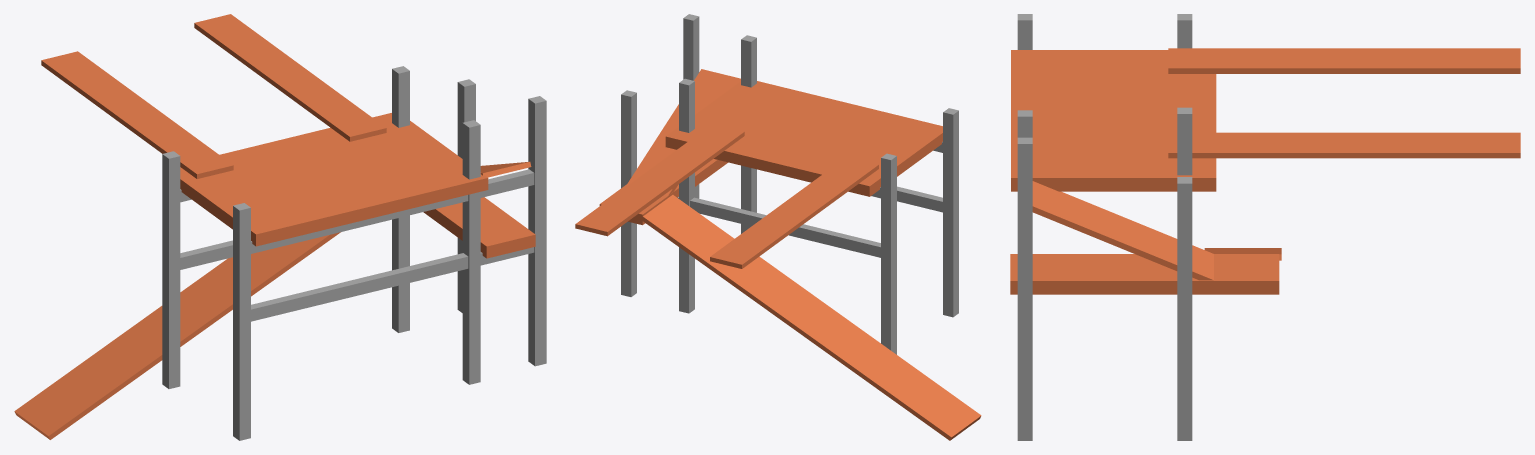
The model's file is Andamio.fbx.
3 views of the same model, side by side, from view 1: azimuth 30°, elevation 25°; view 2: azimuth 150°, elevation 25°; view 3: azimuth 270°, elevation 25° (orthographic). The views are drawn at different scales.
Visible parts, largest first — view 1: Cube.019, Cube.020, Cube.008, Cube.006, Cube.012, Cube.022, Cube.009, Cube.011, Cube.013, Cube.023, Cube.021, Cube.014 (+2 smaller); view 2: Cube.019, Cube.020, Cube.008, Cube.006, Cube.011, Cube.009, Cube.010, Cube.016, Cube.024, Cube.021, Cube.022, Cube.012 (+2 smaller); view 3: Cube.019, Cube.006, Cube.008, Cube.023, Cube.024, Cube.012, Cube.010, Cube.021, Cube.011, Cube.009.
Boxes of the visible parts, box(x1,y1,x2,y2) form: Cube.019: box(180, 113, 488, 246); Cube.020: box(14, 232, 340, 439); Cube.008: box(194, 14, 386, 141); Cube.006: box(41, 51, 233, 178); Cube.012: box(528, 96, 546, 366); Cube.022: box(462, 120, 480, 384); Cube.009: box(162, 151, 180, 388); Cube.011: box(233, 203, 250, 440); Cube.013: box(251, 247, 534, 321); Cube.023: box(423, 197, 535, 258); Cube.021: box(392, 66, 409, 332); Cube.014: box(251, 169, 534, 253); Cube.019: box(665, 81, 942, 196); Cube.020: box(641, 195, 981, 440); Cube.008: box(575, 124, 744, 236); Cube.006: box(710, 157, 878, 268); Cube.011: box(943, 108, 958, 317); Cube.009: box(881, 153, 896, 354); Cube.010: box(621, 90, 636, 296); Cube.016: box(677, 197, 880, 257); Cube.024: box(626, 69, 740, 195); Cube.021: box(679, 78, 694, 313); Cube.022: box(741, 35, 756, 233); Cube.012: box(683, 14, 699, 198); Cube.019: box(1011, 50, 1216, 191); Cube.006: box(1168, 48, 1520, 73); Cube.008: box(1168, 132, 1520, 158); Cube.023: box(1010, 254, 1279, 294); Cube.024: box(1032, 181, 1213, 280); Cube.012: box(1017, 137, 1032, 440); Cube.010: box(1177, 177, 1192, 440); Cube.021: box(1177, 107, 1192, 175); Cube.011: box(1017, 14, 1032, 49); Cube.009: box(1177, 14, 1192, 48).
Size of the model in its own units: 264 by 181 by 248.
